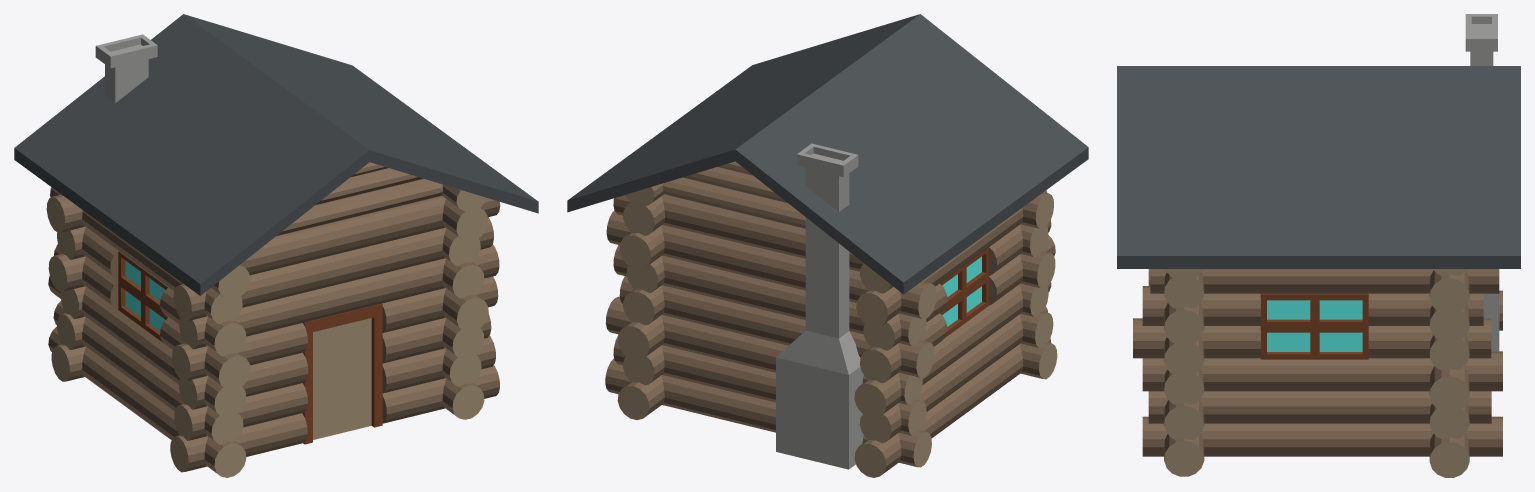
The model's file is House_6.glb.
The picture shows the model from 3 angles, left to right: view 1: azimuth 30°, elevation 25°; view 2: azimuth 150°, elevation 25°; view 3: azimuth 270°, elevation 25°; orthographic projection. The views are drawn at different scales.
Parts seen in each view (by area): view 1: House 6; view 2: House 6; view 3: House 6.
Part boxes in pixels (x1=…): House 6: x1=14, y1=14, x2=538, y2=477; House 6: x1=567, y1=14, x2=1088, y2=477; House 6: x1=1117, y1=14, x2=1520, y2=477.
Size of the model in its own units: 5.47 by 4.71 by 5.22.
